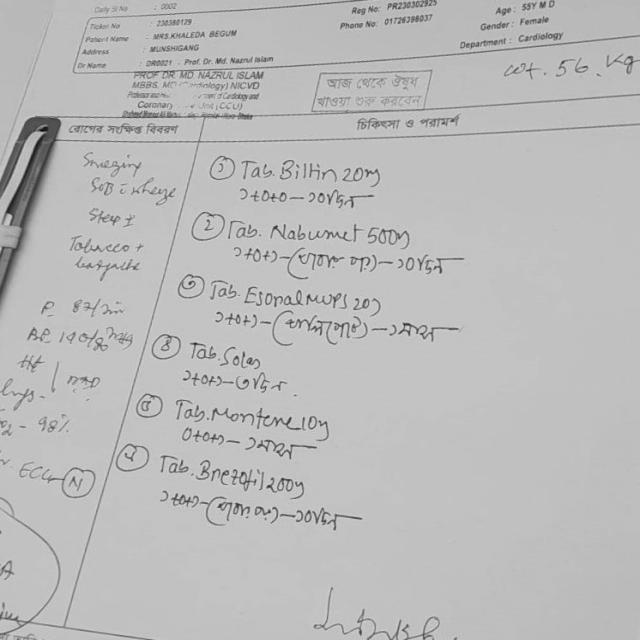medicine: (241, 278, 352, 316), (191, 448, 271, 496), (261, 215, 367, 249), (211, 398, 305, 436), (273, 148, 345, 194), (220, 340, 262, 374)
